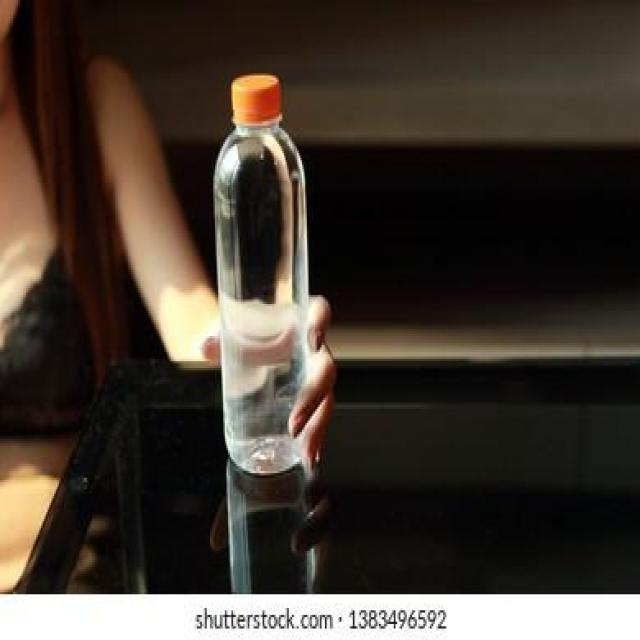bottle: (208, 51, 314, 476)
